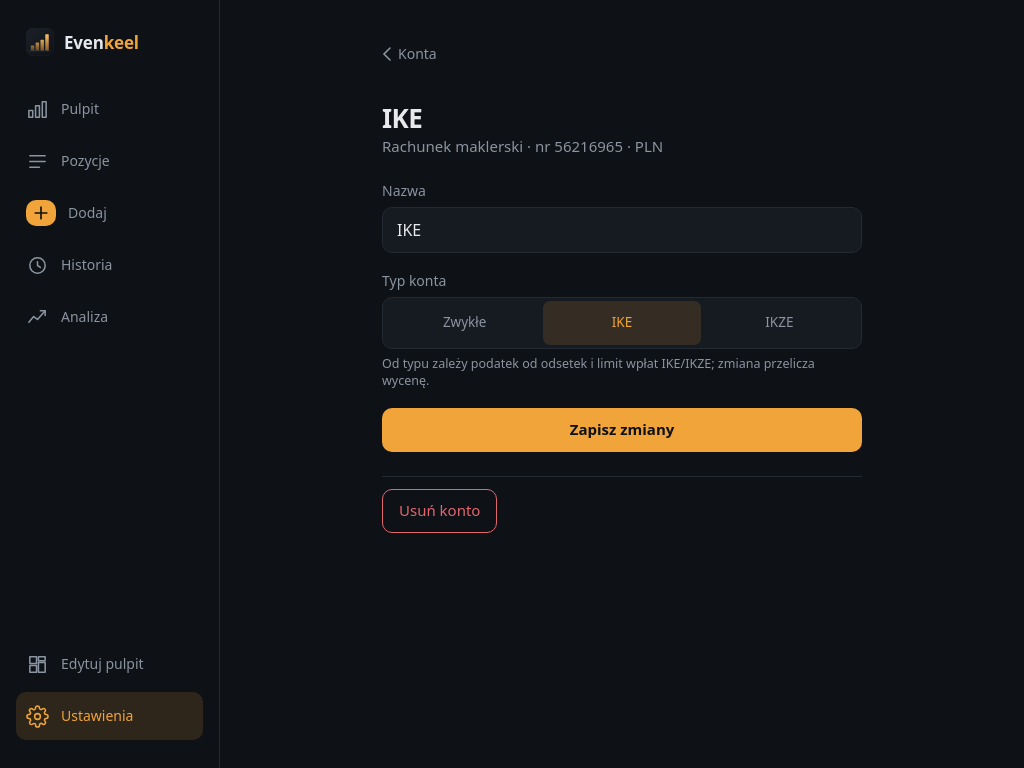
Test: account settings › says there is nothing to save when nothing changed
Click the button "Zapisz zmiany".
click(622, 430)  # box [382,408,862,452]
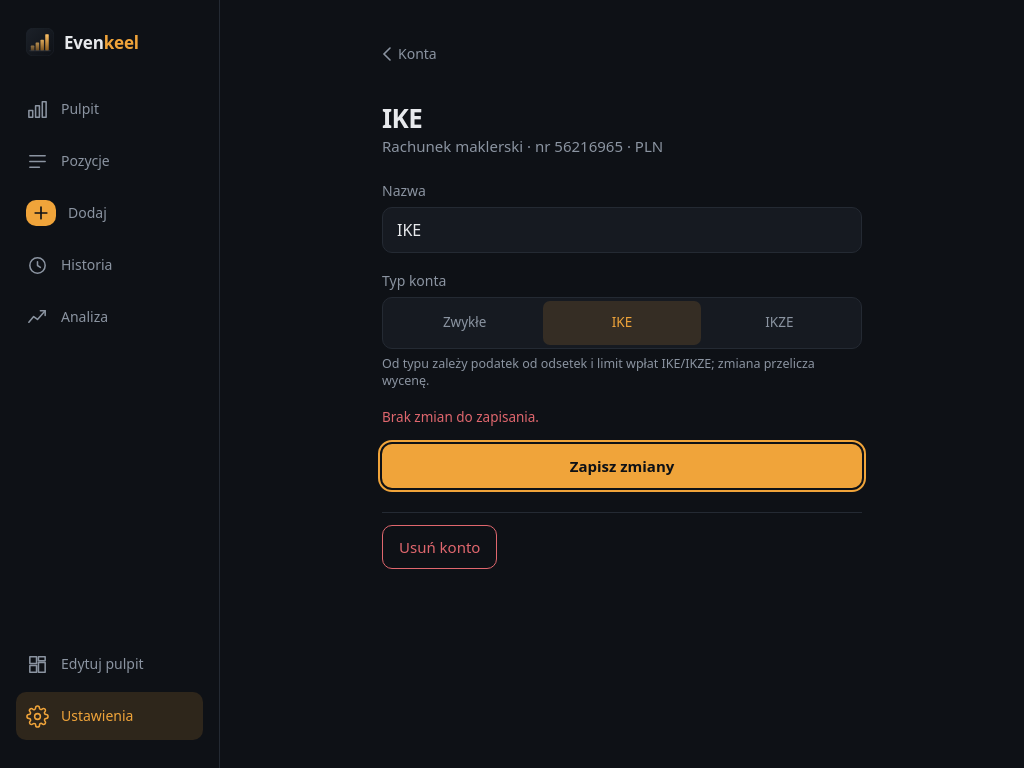
Expected: the text "Brak zmian do zapisania." is shown, [382,408,539,426]
